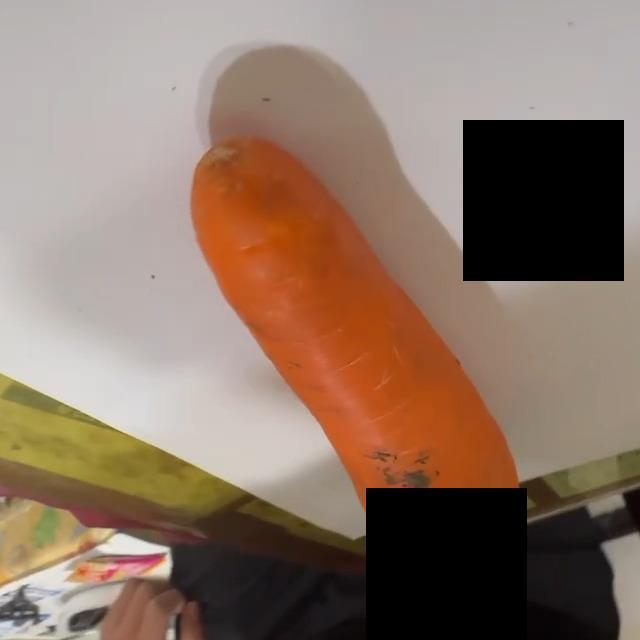carrot: (187, 132, 524, 578)
